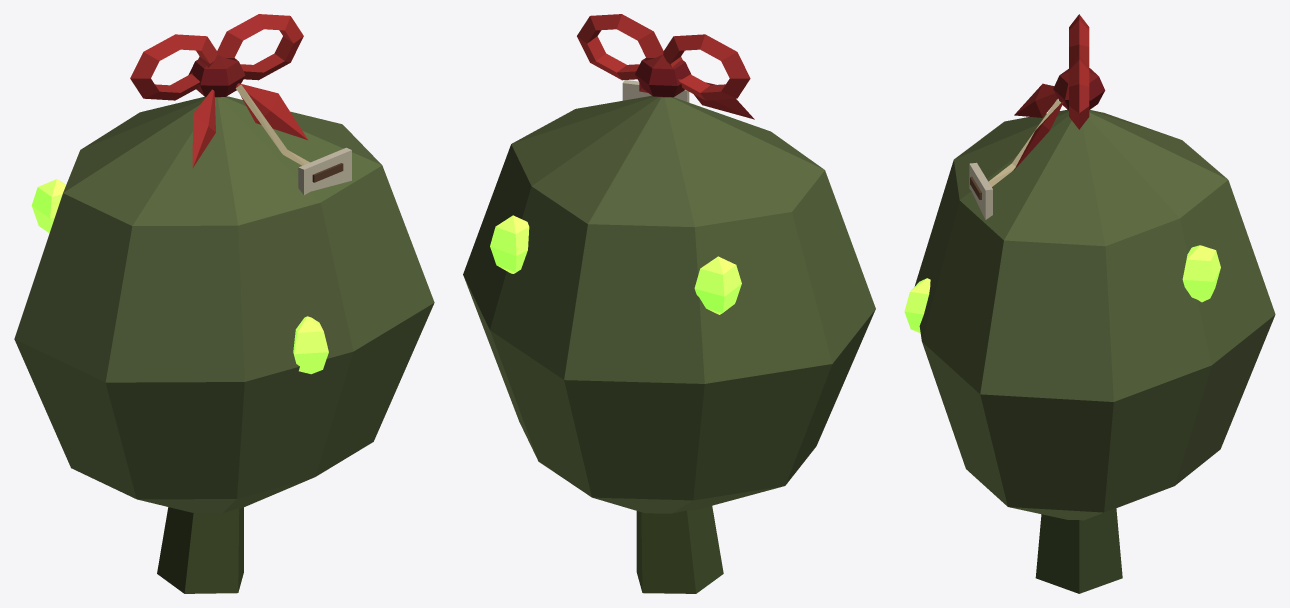
Rendered from quest_spore_pod.glb.
3 renders of one model, left to right at view 1: azimuth 30°, elevation 25°; view 2: azimuth 150°, elevation 25°; view 3: azimuth 270°, elevation 25°, orthographic. The views are drawn at different scales.
Visible parts, largest first — view 1: quest_spore_pod; view 2: quest_spore_pod; view 3: quest_spore_pod.
Part boxes in pixels (x1,y1,x2,y2): quest_spore_pod: (14,14,434,593); quest_spore_pod: (463,14,875,593); quest_spore_pod: (904,14,1275,593).
Bounding box in the file's own units: 0.3181 × 0.4573 × 0.2841.
